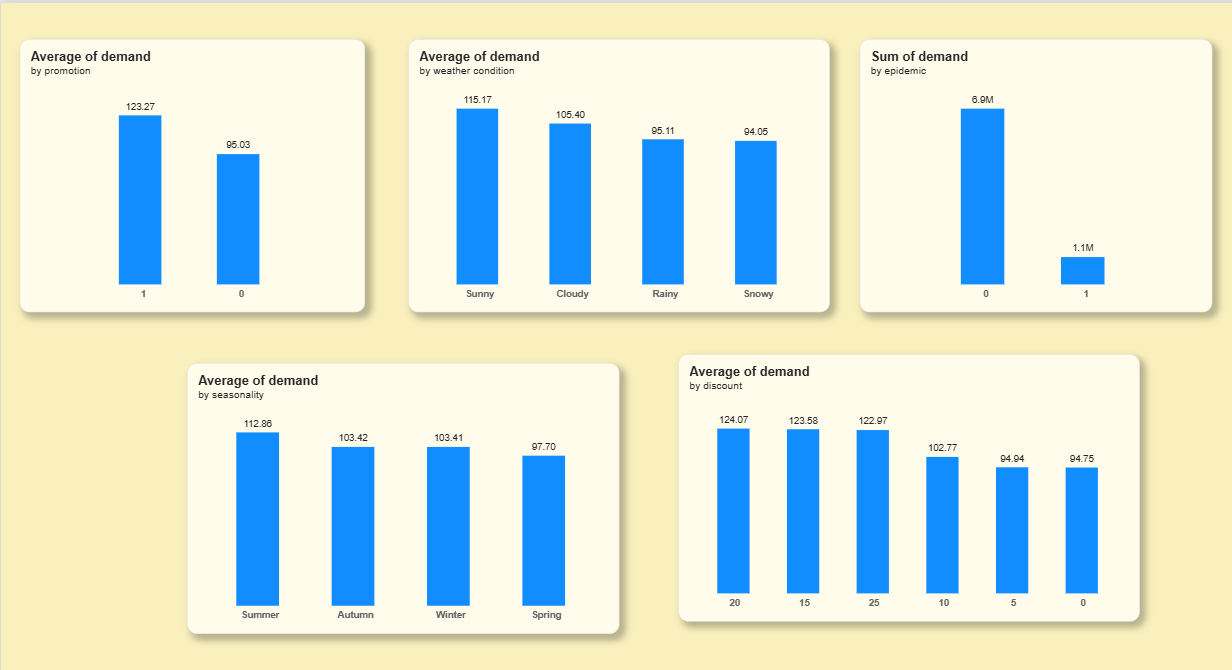

What the dashboard file says about the page in this screenshot:
{"tool":"powerbi","page":{"name":"Demand Drivers","canvas":[1920,1080],"ordinal":2},"visuals":[{"type":"clusteredColumnChart","fields":{"Category":["Inventory.promotion"],"Y":["Avg(Inventory.demand)"]},"box":[29.6,55.6,531.5,420.4],"z":0},{"type":"clusteredColumnChart","fields":{"Category":["Inventory.discount"],"Y":["Avg(Inventory.demand)"]},"box":[1042.6,540.7,709.3,411.1],"z":1},{"type":"clusteredColumnChart","fields":{"Category":["Inventory.seasonality"],"Y":["Avg(Inventory.demand)"]},"box":[287,553.7,664.8,416.7],"z":2},{"type":"clusteredColumnChart","fields":{"Category":["Inventory.weather_condition"],"Y":["Avg(Inventory.demand)"]},"box":[627.8,55.6,648.1,420.4],"z":3},{"type":"clusteredColumnChart","fields":{"Category":["Inventory.epidemic"],"Y":["Sum(Inventory.demand)"]},"box":[1320.4,55.6,542.6,420.4],"z":4}]}

Visuals, with their boxes on the page's 1920x1080 design canvas (x1, y1, x2, y2). These are canvas units, not pixel positions in the 1232x670 screenshot, which may show the page scaled, cropped or inside an application window:
clusteredColumnChart - Inventory.promotion x Avg(Inventory.demand): box=[30, 56, 561, 476]
clusteredColumnChart - Inventory.discount x Avg(Inventory.demand): box=[1043, 541, 1752, 952]
clusteredColumnChart - Inventory.seasonality x Avg(Inventory.demand): box=[287, 554, 952, 970]
clusteredColumnChart - Inventory.weather_condition x Avg(Inventory.demand): box=[628, 56, 1276, 476]
clusteredColumnChart - Inventory.epidemic x Sum(Inventory.demand): box=[1320, 56, 1863, 476]
